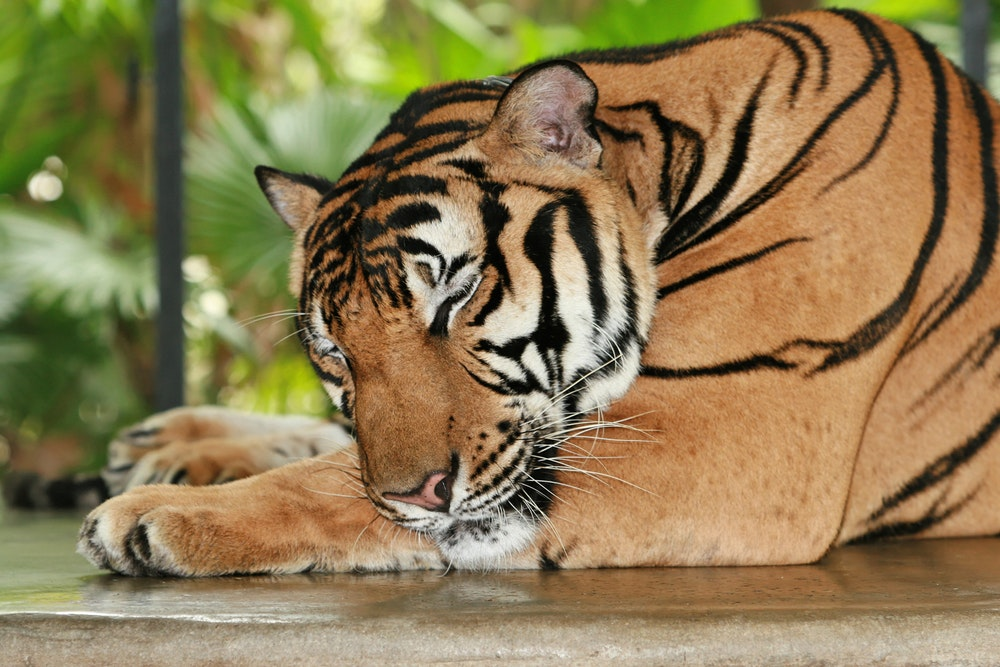tiger: (73, 4, 1000, 585)
